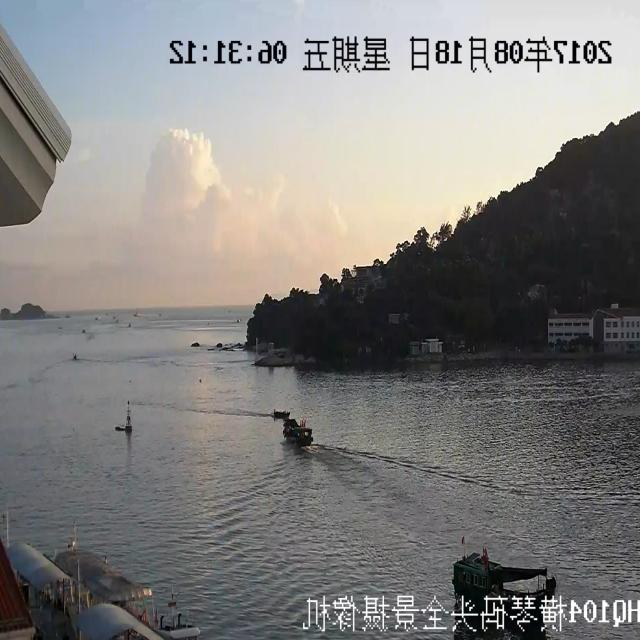buoy: (111, 398, 142, 443)
fishing boat: (438, 538, 566, 622), (280, 402, 313, 444)
reef: (8, 300, 63, 328)
